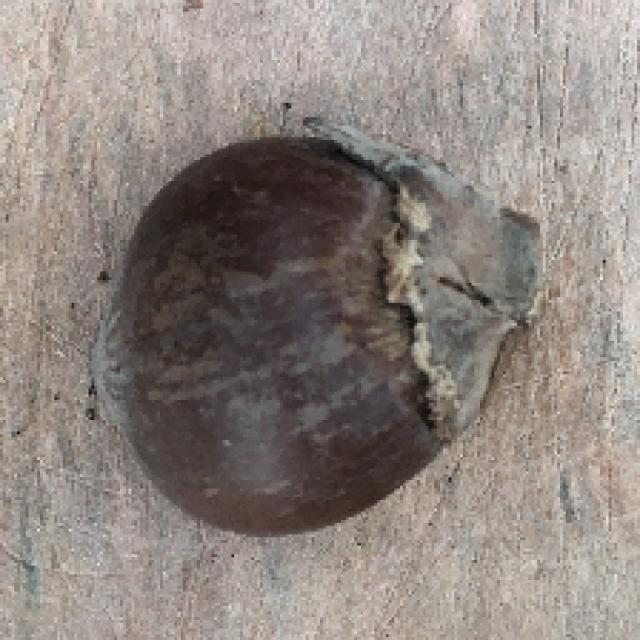damagedHazelnut: (97, 132, 547, 536)
